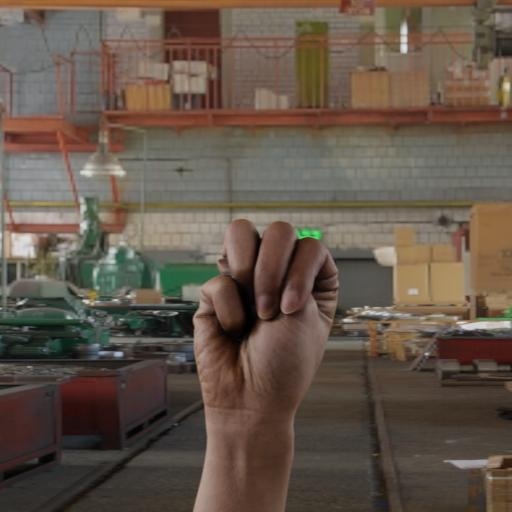M: (181, 210, 358, 450)
